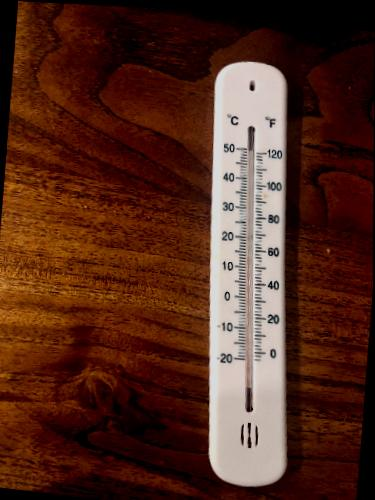thermo: (209, 64, 292, 488)
